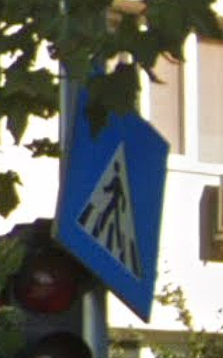trecere_pietoni: (50, 60, 177, 335)
